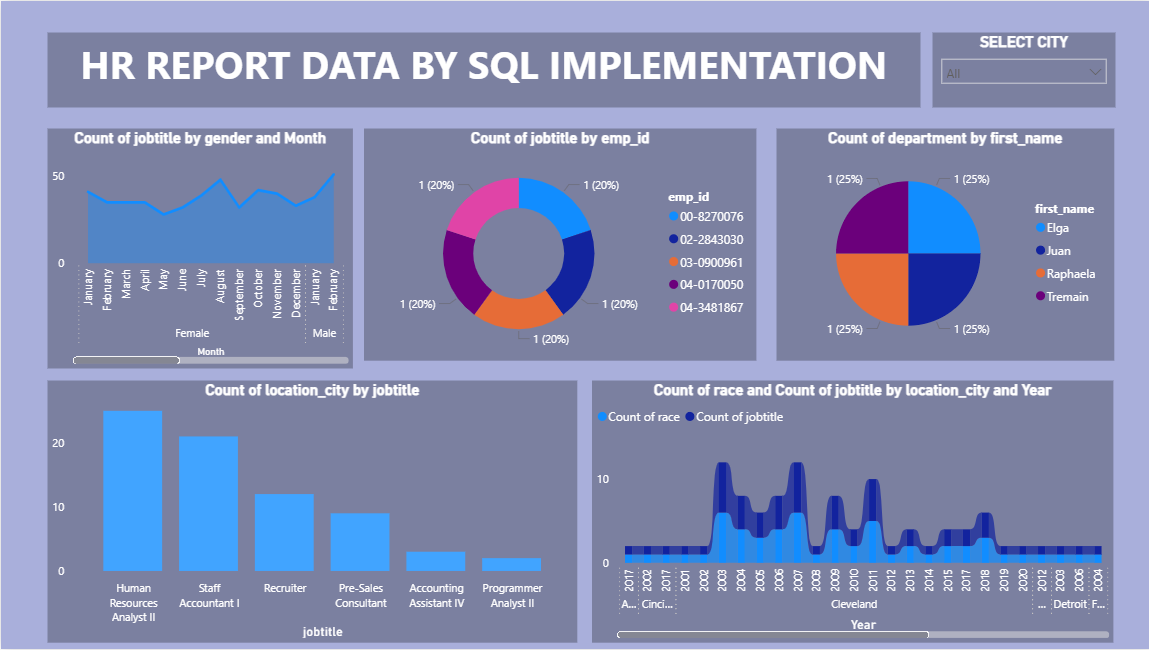

What the dashboard file says about the page in this screenshot:
{"tool":"powerbi","page":{"name":"Page 1","canvas":[1280,720],"ordinal":0},"visuals":[{"type":"donutChart","fields":{"Category":["HR.emp_id"],"Y":["CountNonNull(HR.jobtitle)"]},"box":[402.6,141.8,436.2,257.7],"z":0},{"type":"pieChart","fields":{"Category":["HR.first_name"],"Y":["CountNonNull(HR.department)"]},"box":[861.6,141.8,375.2,257.7],"z":1000},{"type":"clusteredColumnChart","fields":{"Category":["HR.jobtitle"],"Y":["CountNonNull(HR.location_city)"]},"box":[51.9,420.9,588.7,291.3],"z":2000},{"type":"ribbonChart","fields":{"Category":["HR.location_city","HR.hire_date.Variation.Date Hierarchy.Year"],"Y":["CountNonNull(HR.race)","CountNonNull(HR.jobtitle)"]},"box":[657.3,420.9,579.5,291.3],"z":3000},{"type":"slicer","title":"SELECT CITY","fields":{"Values":["HR.location_city"]},"box":[1034.2,34.4,203.4,83.1],"z":4000},{"type":"areaChart","fields":{"Category":["HR.gender","HR.hire_date.Variation.Date Hierarchy.Month"],"Y":["CountNonNull(HR.jobtitle)"]},"box":[51.6,141.8,339.5,266.4],"z":5000},{"type":"textbox","box":[51.6,34.4,969.7,83.1],"z":6000}]}

Visuals, with their boxes in screenshot pixels (x1, y1, x2, y2), scaled from the page's 1280x720 canvas onto the 1149x650 screenshot:
donutChart - HR.emp_id x CountNonNull(HR.jobtitle): 361/128/753/361
pieChart - HR.first_name x CountNonNull(HR.department): 773/128/1110/361
clusteredColumnChart - HR.jobtitle x CountNonNull(HR.location_city): 47/380/575/643
ribbonChart - HR.location_city x HR.hire_date.Variation.Date Hierarchy.Year: 590/380/1110/643
"SELECT CITY" slicer: 928/31/1111/106
areaChart - HR.gender x HR.hire_date.Variation.Date Hierarchy.Month: 46/128/351/369
textbox: 46/31/917/106
